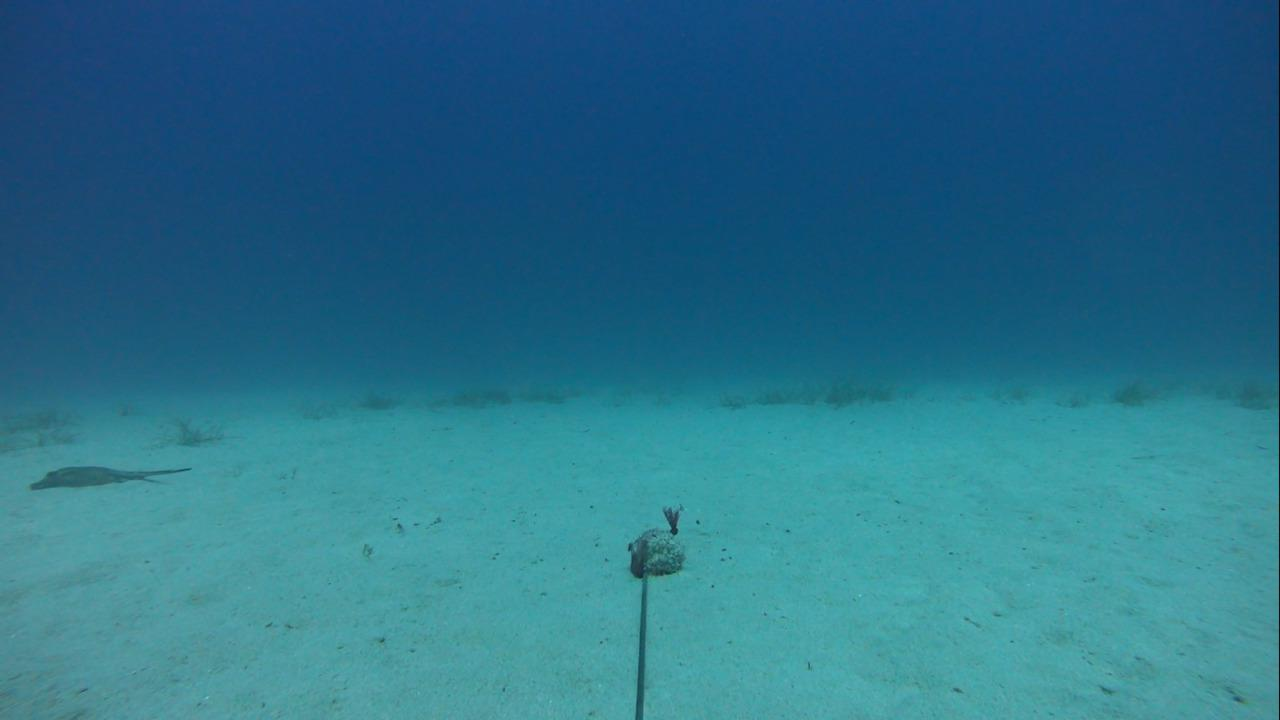myliobatis: (21, 456, 192, 490)
